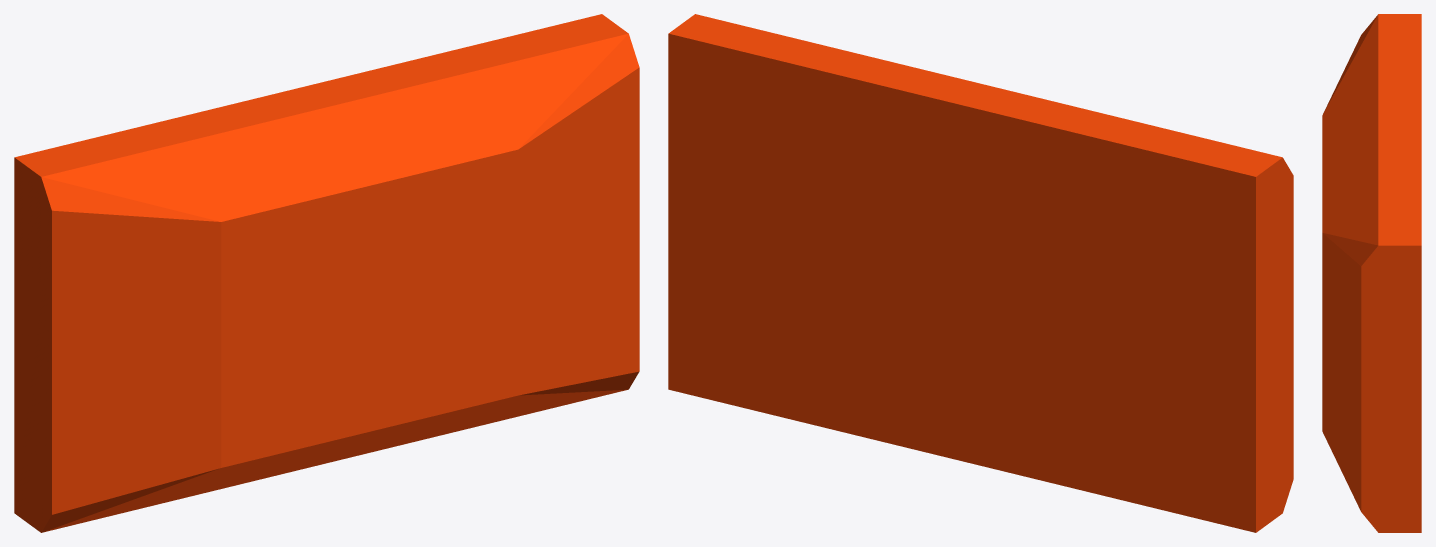
Rendered from large_body.obj.
3 views of the same model, side by side, from view 1: azimuth 30°, elevation 25°; view 2: azimuth 150°, elevation 25°; view 3: azimuth 270°, elevation 25° (orthographic). The views are drawn at different scales.
Size of the model in its own units: 1.9 by 1.1 by 0.345.
